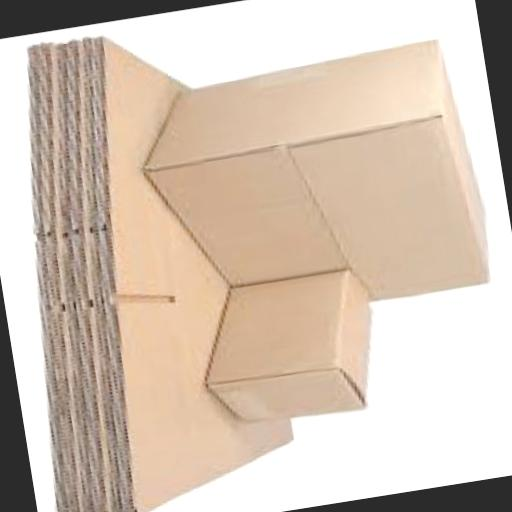cardboard: (0, 13, 301, 512), (60, 16, 305, 512), (135, 36, 500, 333), (194, 265, 390, 434)
